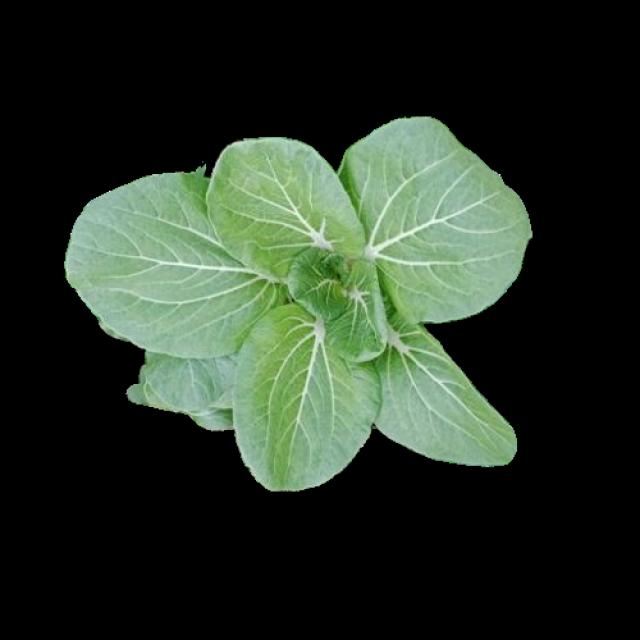healthy: (71, 136, 528, 480)
mature: (70, 120, 532, 482)
